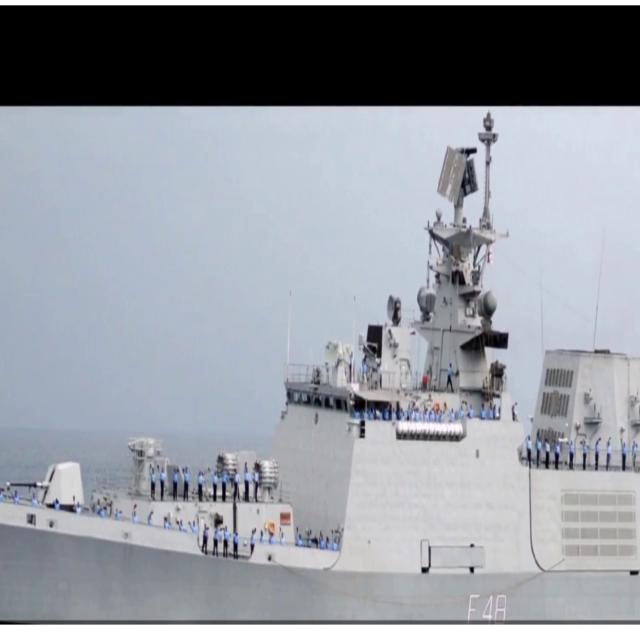OCR: (458, 586, 511, 623)
